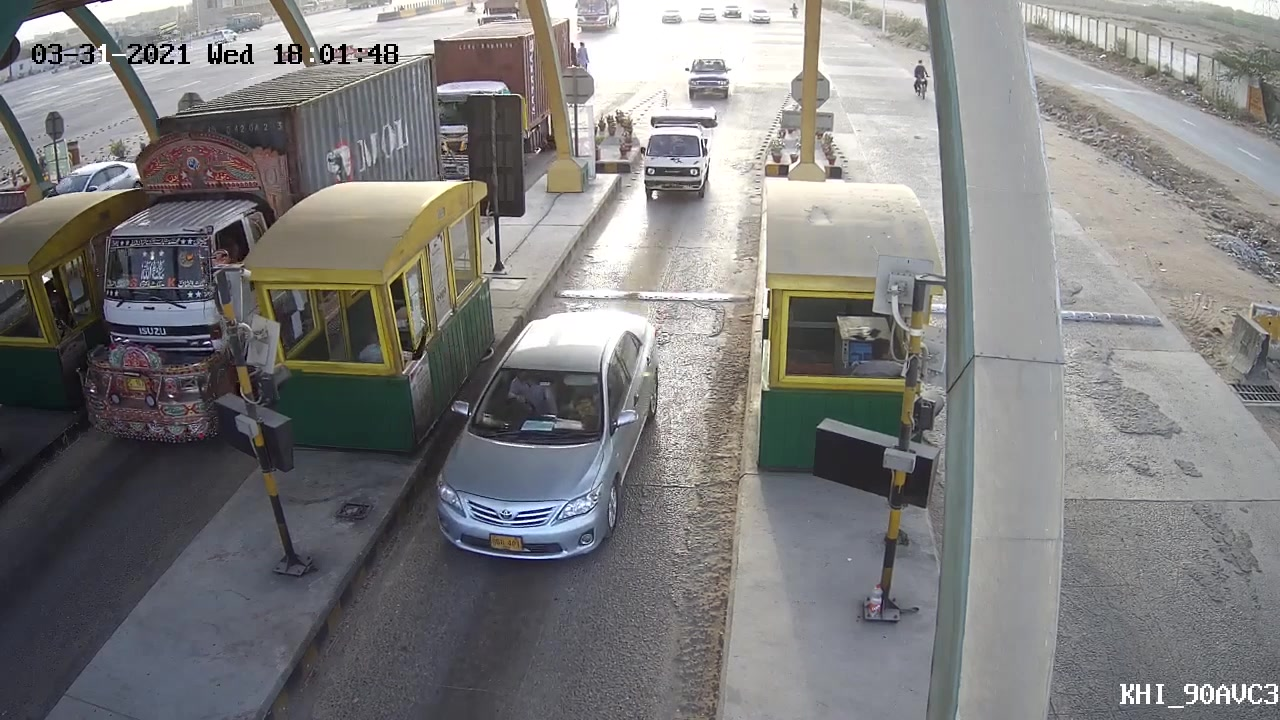F1: (417, 302, 664, 575), (627, 100, 726, 202)
